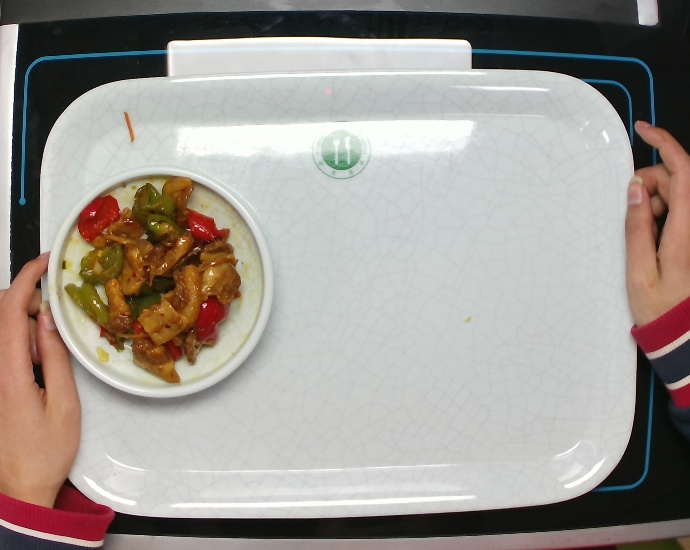JYsf-Xiao_Yuan_Pan: (47, 163, 280, 408)
